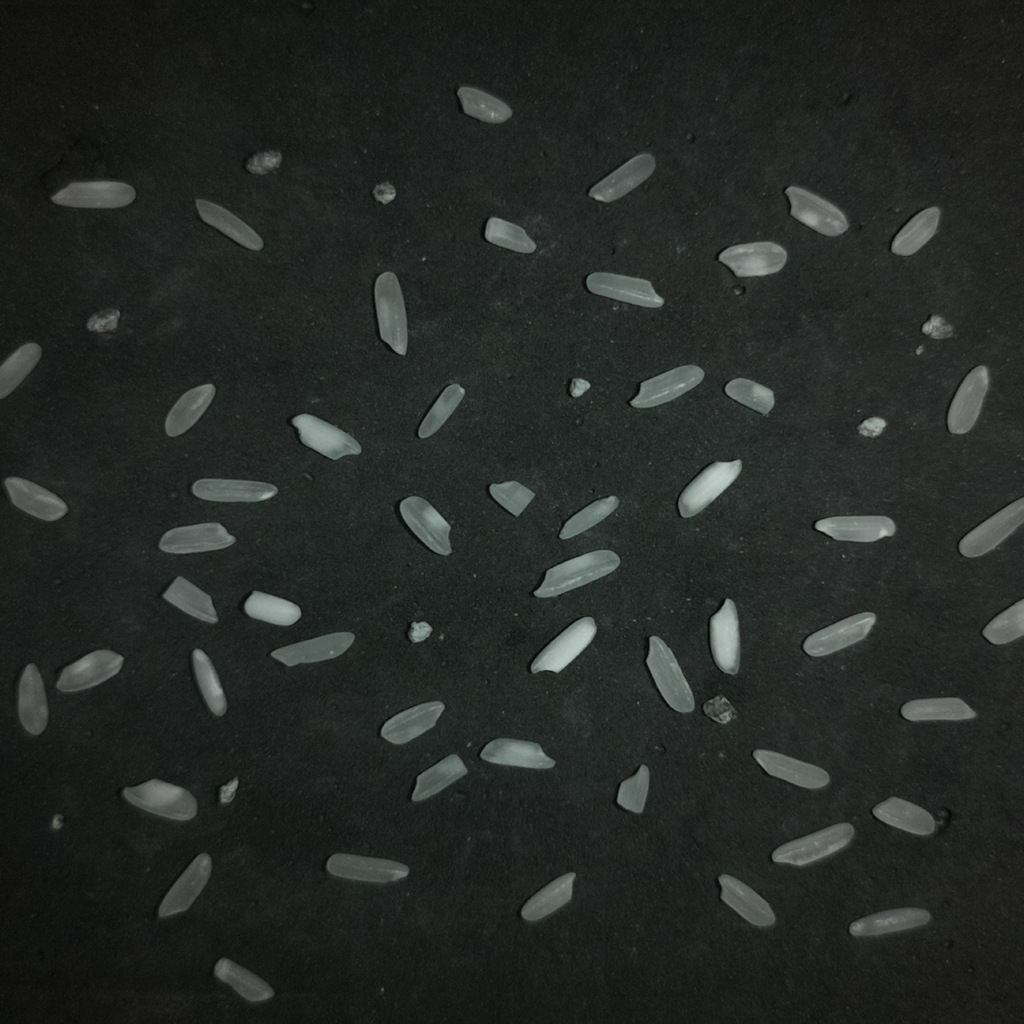broken: (958, 497, 1024, 558), (411, 754, 468, 802), (163, 576, 217, 623), (0, 342, 41, 398), (724, 378, 773, 414), (616, 764, 650, 814), (488, 480, 534, 516)
chalky: (533, 550, 619, 597), (530, 616, 596, 672), (771, 822, 854, 866), (677, 460, 741, 517), (290, 414, 361, 460), (802, 612, 875, 656), (122, 779, 197, 820), (56, 649, 123, 692), (947, 365, 988, 434), (3, 477, 67, 521), (520, 872, 576, 922), (586, 272, 663, 307), (213, 958, 272, 1002), (159, 522, 235, 554), (719, 241, 786, 277), (50, 180, 135, 208), (891, 207, 940, 255), (191, 649, 226, 716), (709, 598, 739, 674), (480, 738, 554, 768), (243, 590, 301, 625), (457, 86, 511, 123), (484, 216, 535, 253), (982, 599, 1023, 644), (900, 697, 975, 721)
foreign: (703, 695, 735, 724), (245, 150, 282, 175), (86, 308, 120, 332), (922, 314, 952, 337), (858, 417, 886, 437), (373, 181, 396, 204), (407, 621, 431, 641), (218, 778, 237, 802), (568, 378, 588, 396)
whole: (646, 636, 694, 712), (157, 853, 212, 918), (195, 200, 263, 250), (588, 153, 655, 202), (784, 186, 848, 236), (630, 365, 704, 408), (399, 496, 451, 555), (753, 749, 829, 789), (718, 874, 775, 926), (270, 631, 354, 666), (380, 701, 444, 744), (374, 271, 407, 354), (165, 383, 215, 436), (559, 496, 618, 539), (417, 385, 464, 438), (325, 853, 408, 883), (848, 907, 930, 937), (872, 797, 936, 835), (17, 663, 48, 735), (814, 515, 895, 542), (191, 478, 277, 502)
